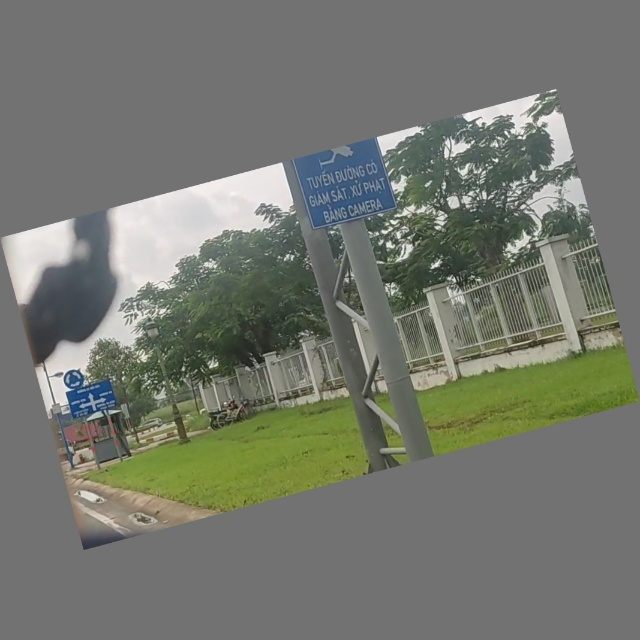R.303: (60, 366, 87, 392)
